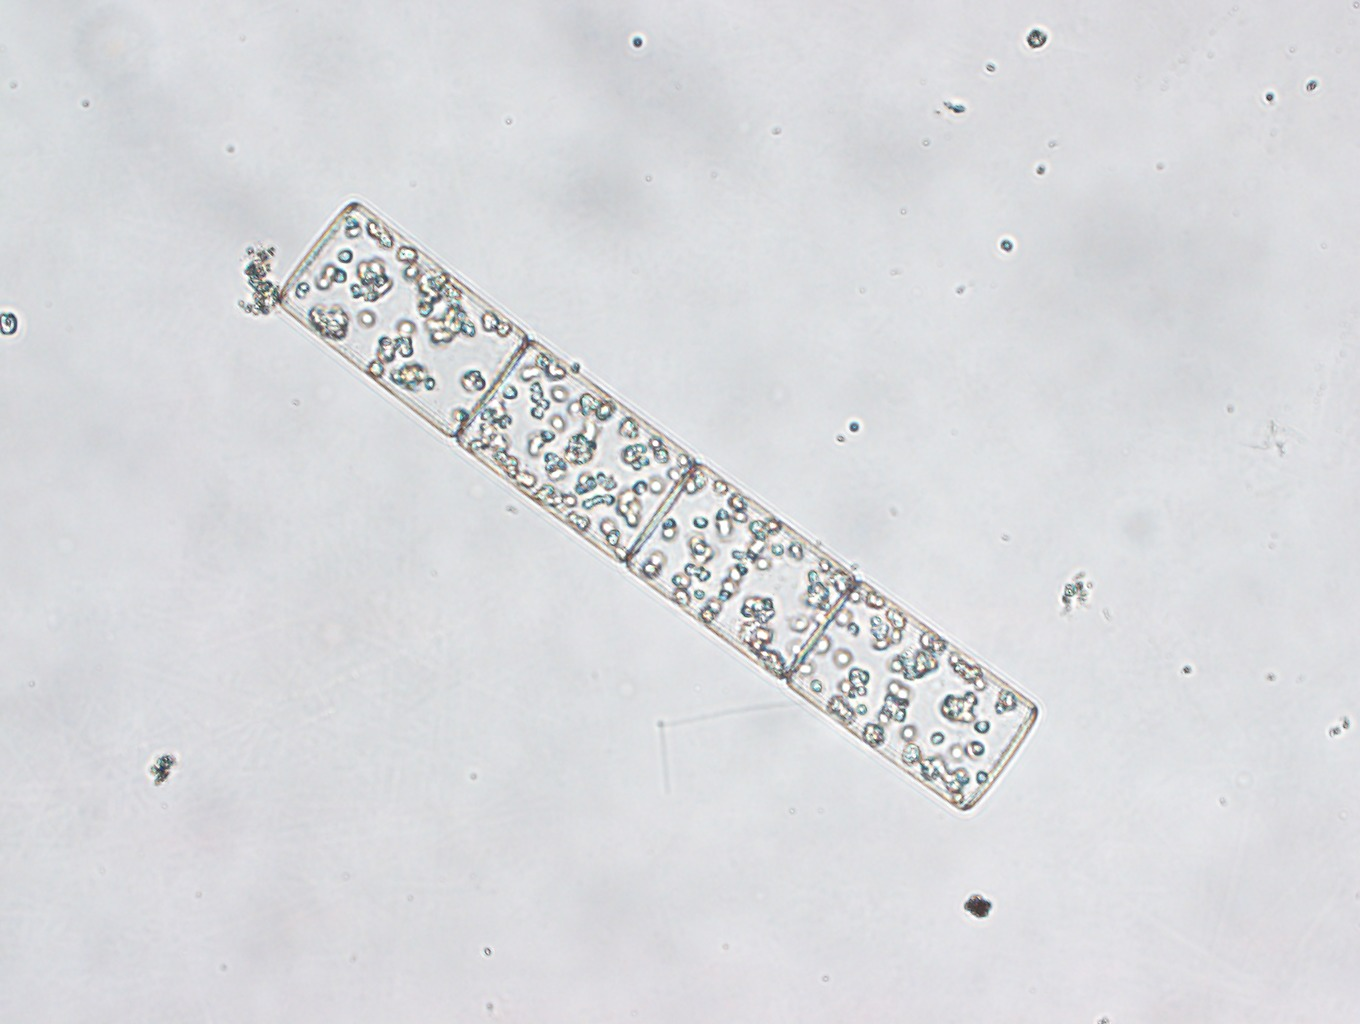guinardia flaccida: (276, 201, 1040, 813)
